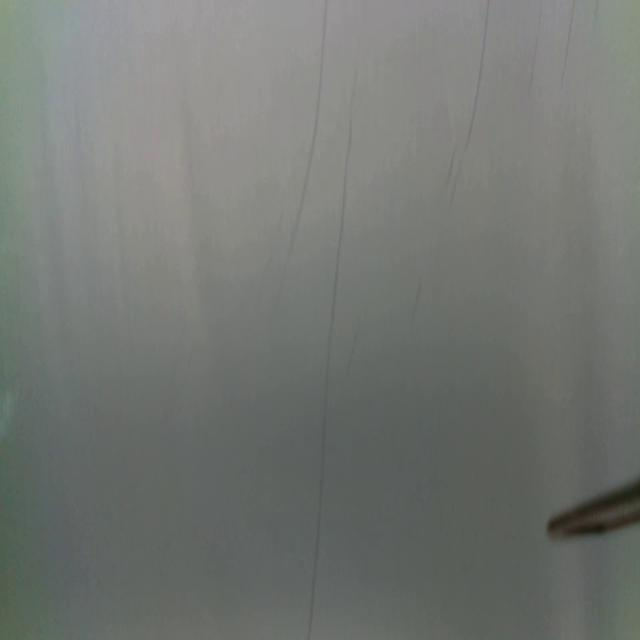crease: (303, 62, 362, 640), (278, 2, 330, 293), (448, 0, 494, 205), (524, 2, 548, 100), (559, 1, 576, 95), (340, 312, 361, 387), (410, 276, 422, 328), (592, 0, 599, 37)
